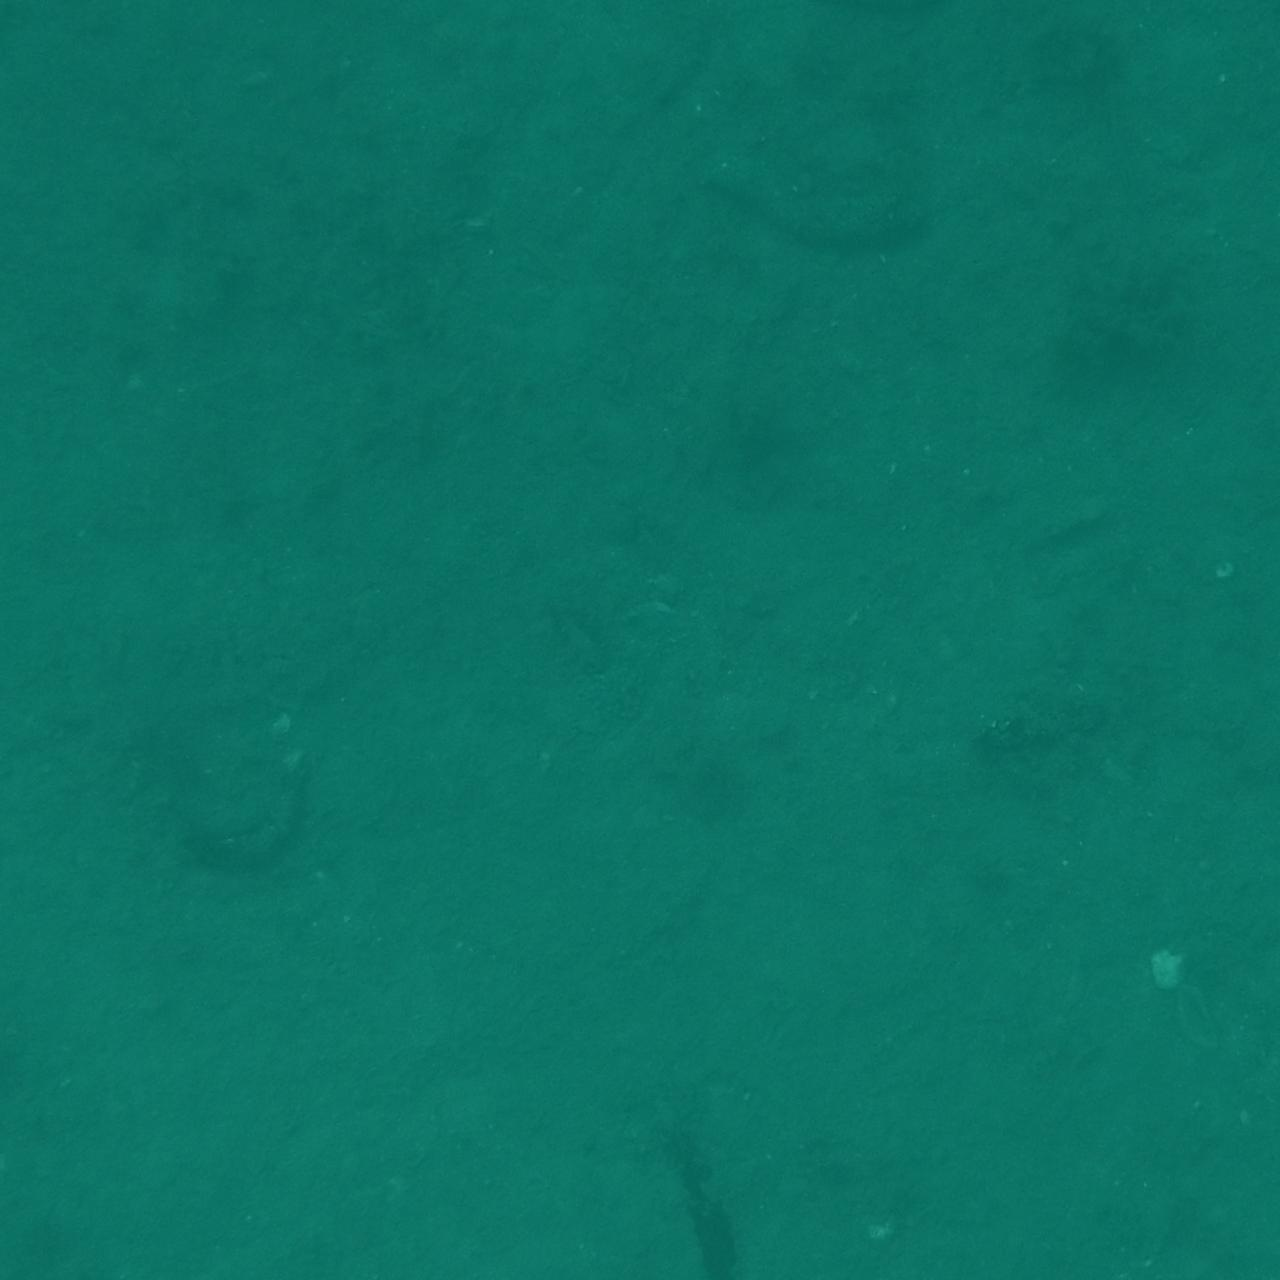Holothuria tubulosa: (660, 117, 942, 280), (626, 1107, 796, 1280), (1169, 513, 1280, 727), (726, 0, 980, 91), (1162, 89, 1280, 271), (0, 356, 113, 532), (464, 1182, 638, 1280), (947, 1201, 1164, 1280), (132, 0, 270, 115), (0, 0, 116, 111), (0, 369, 54, 601), (1177, 1165, 1280, 1280), (0, 682, 45, 927), (325, 0, 570, 45), (1152, 0, 1280, 74), (0, 0, 98, 79), (1175, 1208, 1280, 1280), (1194, 0, 1280, 60)
Rifiuto: (393, 1169, 689, 1280)
